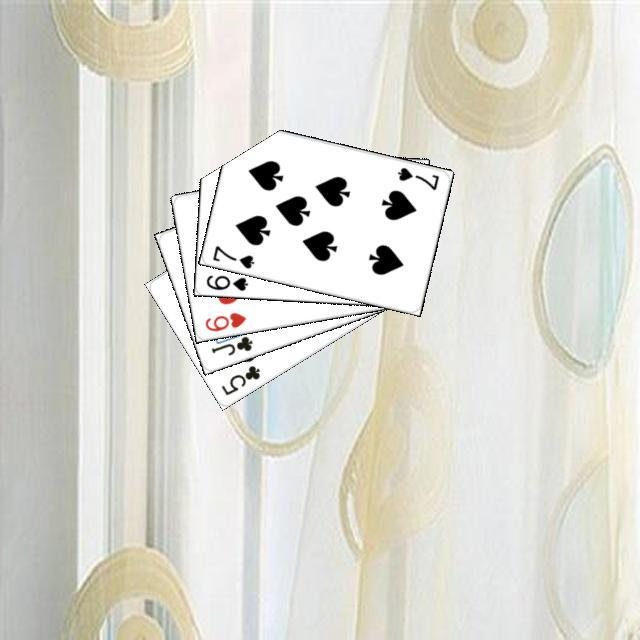5c: (216, 360, 262, 397)
6h: (200, 307, 248, 333)
6s: (201, 270, 249, 292)
7s: (392, 162, 441, 192), (208, 241, 256, 270)
Jc: (206, 331, 254, 357)
